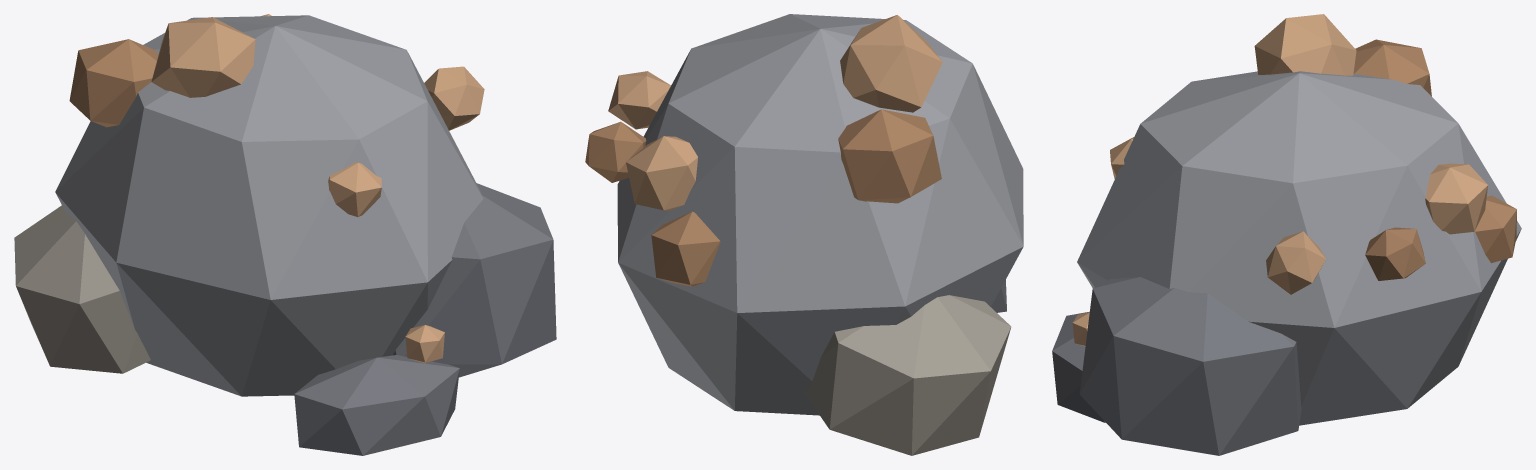
The model's file is rock_clay.glb.
3 views of the same model, side by side, from view 1: azimuth 30°, elevation 25°; view 2: azimuth 150°, elevation 25°; view 3: azimuth 270°, elevation 25° (orthographic). The views are drawn at different scales.
Visible parts, largest first — view 1: rock_clay; view 2: rock_clay; view 3: rock_clay.
Part boxes in pixels (x1,y1,x2,y2): rock_clay: (14, 14, 556, 455); rock_clay: (585, 14, 1023, 455); rock_clay: (1052, 14, 1521, 455).
Bounding box in the file's own units: 1.04 × 0.8981 × 1.04.
